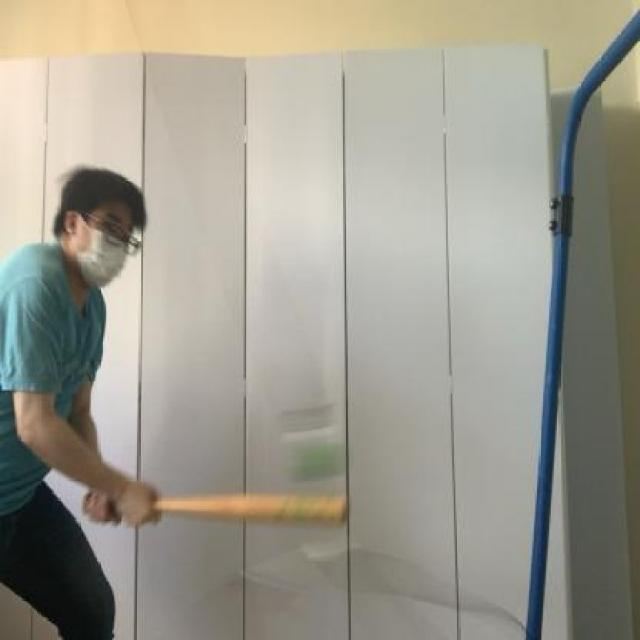baseball: (282, 422, 351, 483)
